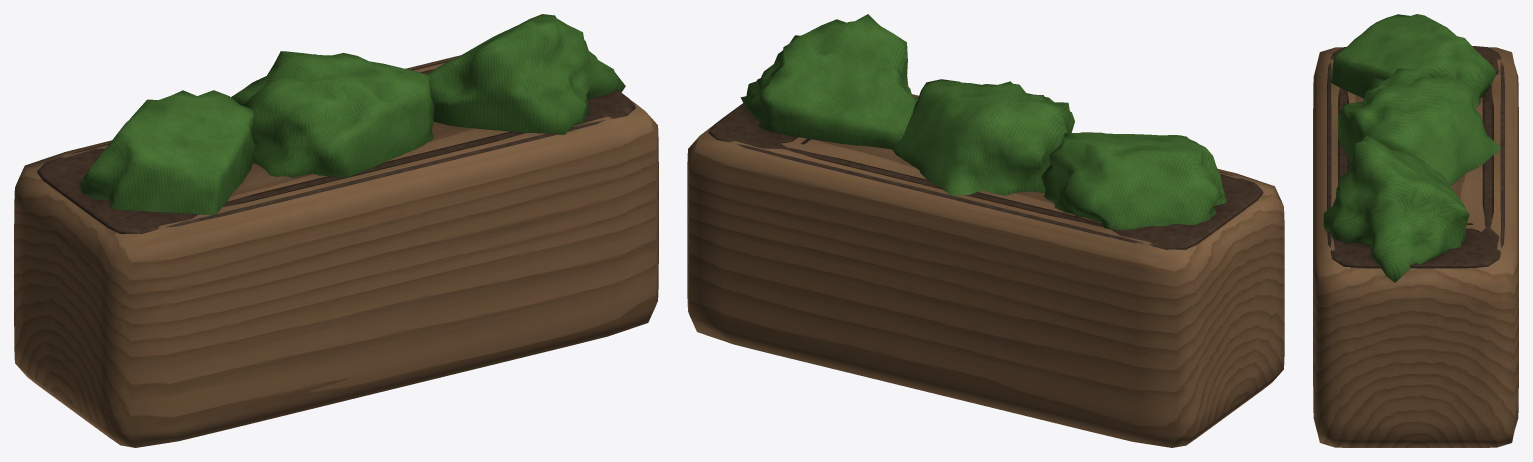
The model's file is wood-box.glb.
3 renders of one model, left to right at view 1: azimuth 30°, elevation 25°; view 2: azimuth 150°, elevation 25°; view 3: azimuth 270°, elevation 25°, orthographic. The views are drawn at different scales.
Visible parts, largest first — view 1: wood_x, shrub_leaves, soil; view 2: wood_x, shrub_leaves, soil; view 3: wood_x, shrub_leaves, soil.
Part boxes in pixels (x1,y1,x2,y2): wood_x: (14, 55, 658, 447); shrub_leaves: (79, 14, 625, 215); soil: (37, 60, 635, 233); wood_x: (687, 94, 1284, 447); shrub_leaves: (740, 14, 1226, 230); soil: (708, 97, 1263, 249); wood_x: (1313, 47, 1518, 447); shrub_leaves: (1323, 14, 1501, 282); soil: (1327, 46, 1504, 268).
Bounding box in the file's own units: 1.2 × 0.6419 × 0.45.
Materials: 3 (3 with a texture image).
